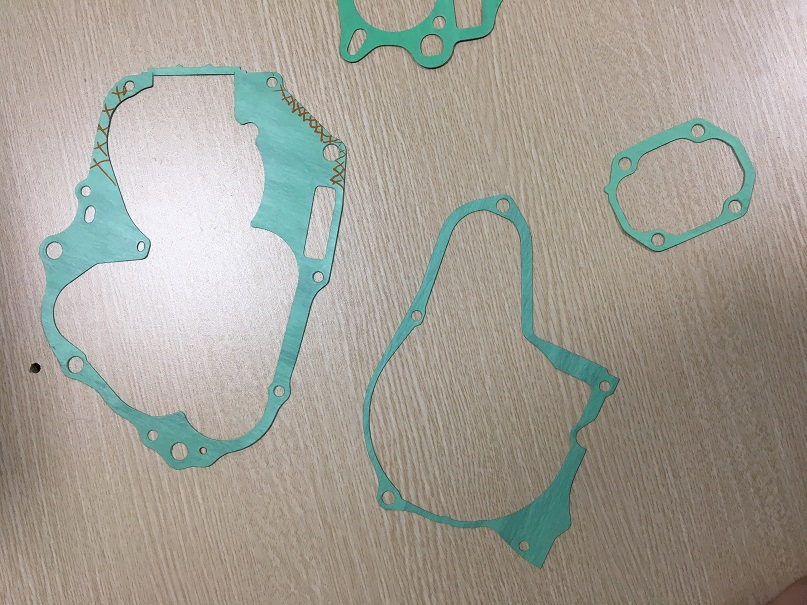type1: (343, 187, 632, 576)
type2: (598, 112, 759, 258)
type3: (32, 65, 355, 476)
